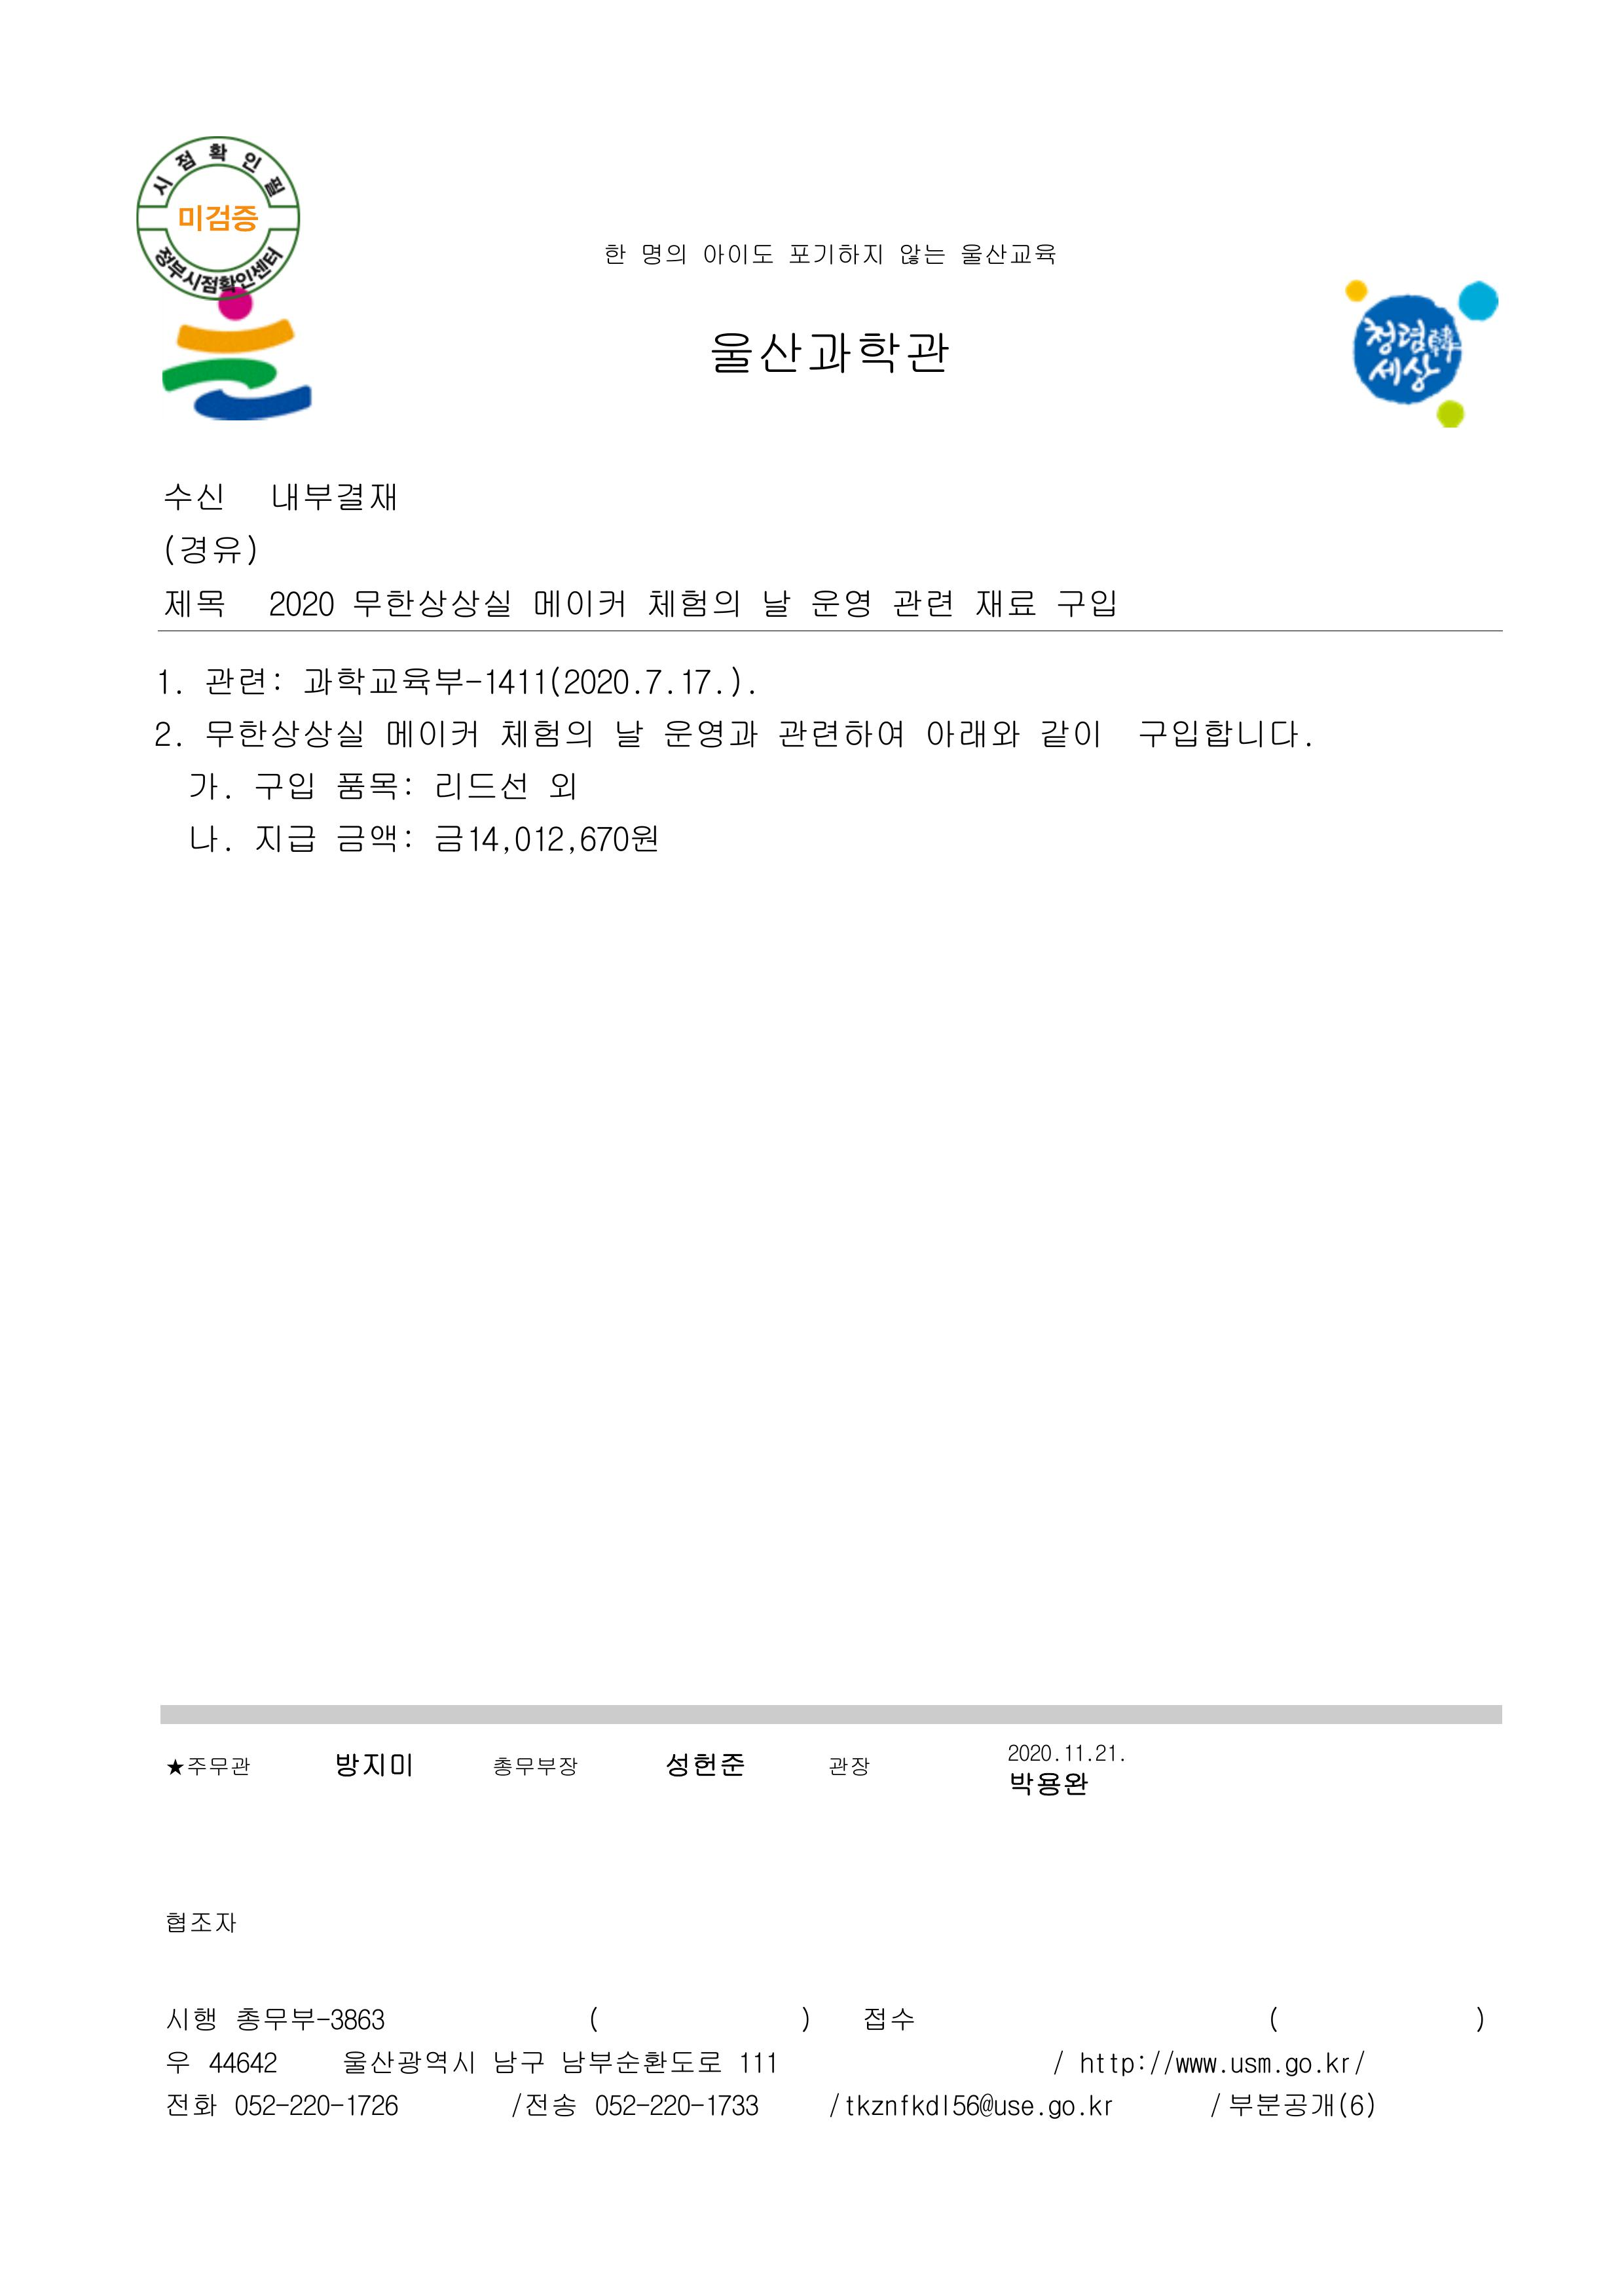t: (301, 662, 749, 699), (710, 327, 951, 380), (1137, 713, 1306, 754), (352, 583, 513, 624), (204, 713, 366, 754), (555, 2045, 724, 2081), (1225, 2088, 1378, 2123), (269, 476, 397, 517), (773, 715, 907, 754), (431, 821, 569, 856), (341, 2047, 476, 2079), (663, 713, 761, 754), (499, 713, 596, 754), (1359, 315, 1452, 355), (162, 531, 258, 569), (921, 717, 1021, 754), (531, 583, 627, 620), (645, 583, 742, 620), (434, 766, 531, 803), (383, 717, 480, 749), (176, 200, 258, 237), (204, 662, 286, 699), (334, 766, 417, 803), (1366, 351, 1438, 394), (661, 1748, 745, 1784), (334, 821, 417, 856), (576, 821, 659, 856), (1035, 713, 1104, 754), (237, 2007, 329, 2037), (290, 2095, 401, 2119), (334, 1750, 417, 1782), (1007, 1768, 1090, 1799), (162, 583, 227, 620), (807, 583, 872, 620), (789, 244, 886, 269), (961, 244, 1058, 269), (889, 583, 953, 620), (1055, 583, 1118, 620), (265, 589, 337, 620), (251, 821, 315, 856), (700, 239, 773, 269), (255, 766, 315, 803), (972, 589, 1040, 620), (508, 2088, 576, 2119), (204, 2047, 279, 2075), (494, 1754, 580, 1778), (951, 2095, 1035, 2119), (165, 480, 227, 513), (1079, 2051, 1149, 2077), (487, 2044, 545, 2075), (703, 2089, 763, 2119), (169, 1757, 251, 1778), (169, 1912, 239, 1937), (327, 2005, 387, 2033), (228, 2089, 279, 2119), (591, 2089, 642, 2119), (186, 766, 227, 803), (165, 2005, 218, 2033), (861, 2005, 914, 2033), (896, 239, 946, 269), (638, 239, 685, 269), (165, 2095, 221, 2119), (186, 821, 227, 854), (649, 2095, 703, 2119), (845, 2095, 900, 2119), (735, 2047, 779, 2075), (761, 583, 793, 620), (1281, 2056, 1325, 2082), (1165, 2054, 1220, 2075), (1048, 2096, 1090, 2123), (900, 2095, 944, 2119), (1007, 1743, 1058, 1764), (1323, 2051, 1366, 2075), (548, 771, 580, 803), (828, 1757, 872, 1778), (617, 717, 642, 754), (1086, 1743, 1123, 1768), (1230, 2054, 1272, 2075), (1062, 1743, 1093, 1768), (1086, 2096, 1116, 2119), (156, 720, 179, 749), (606, 244, 631, 269), (169, 2051, 190, 2075), (156, 671, 176, 696)
